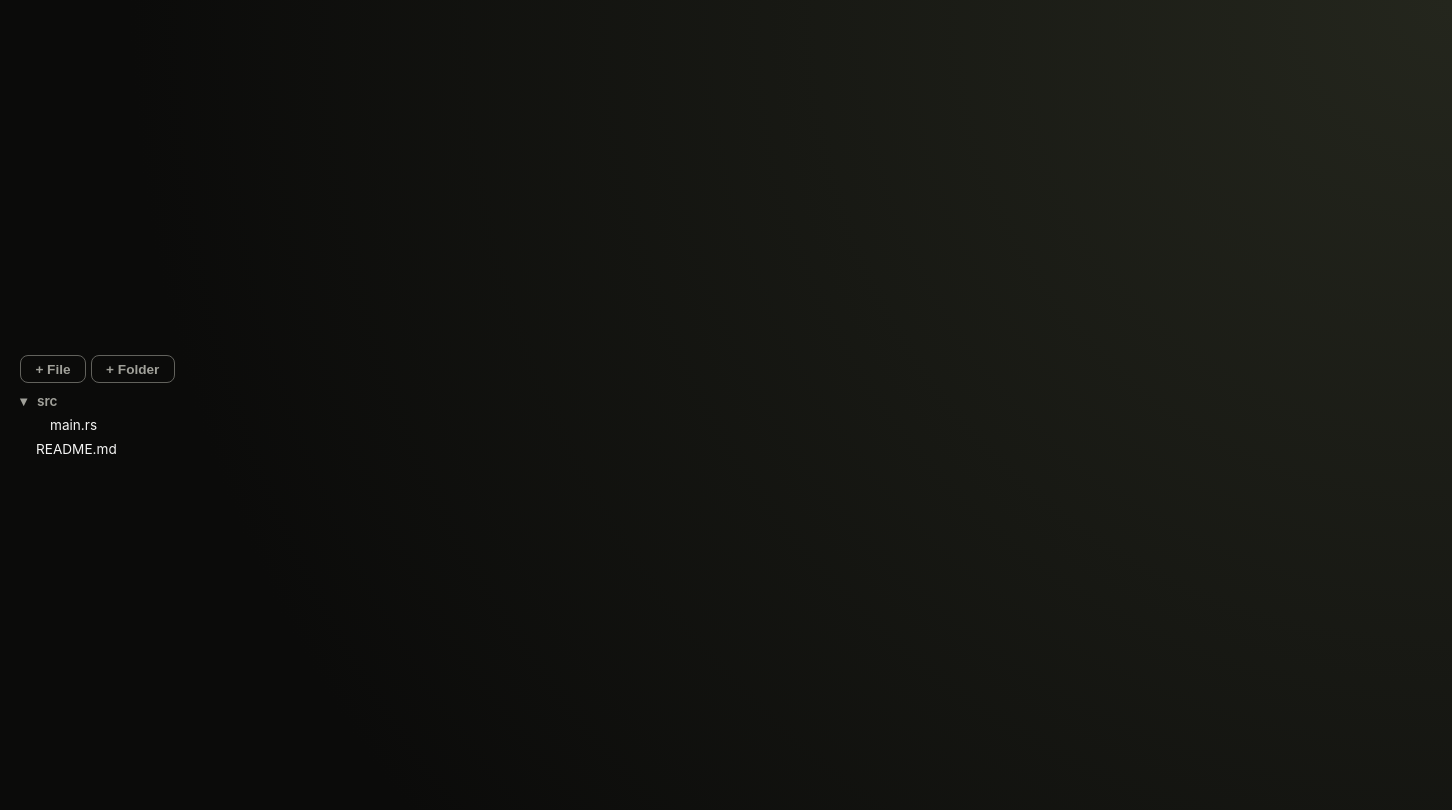
Test: FileExplorer › surfaces backend rejections as visible errors
The image size is (1452, 810).
Click the button "+ File".
click(53, 369)  # box [20,355,86,383]
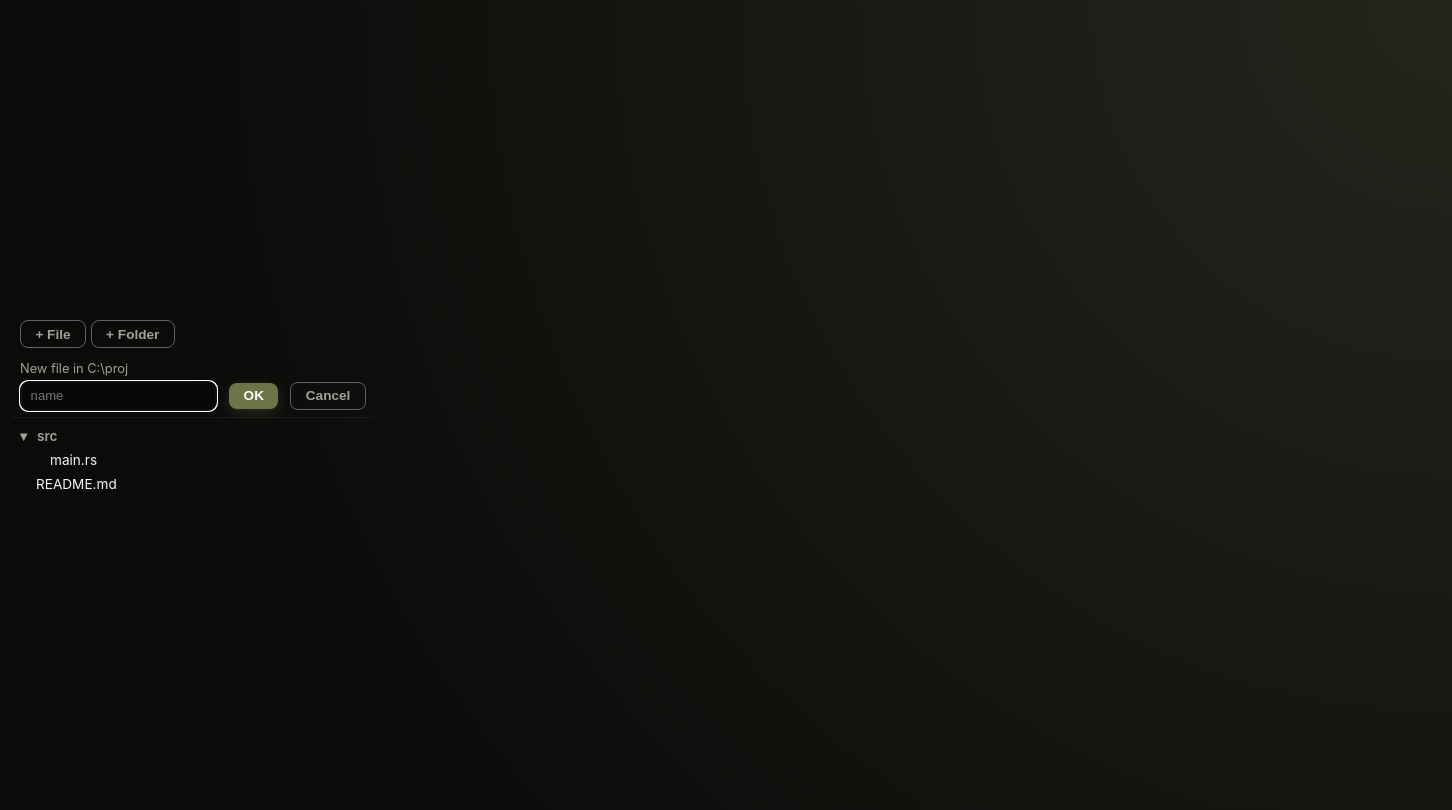
Type "x.ts" into the field with placeholder "name".
click(119, 396); type("x.ts")  # box [20,381,217,411]
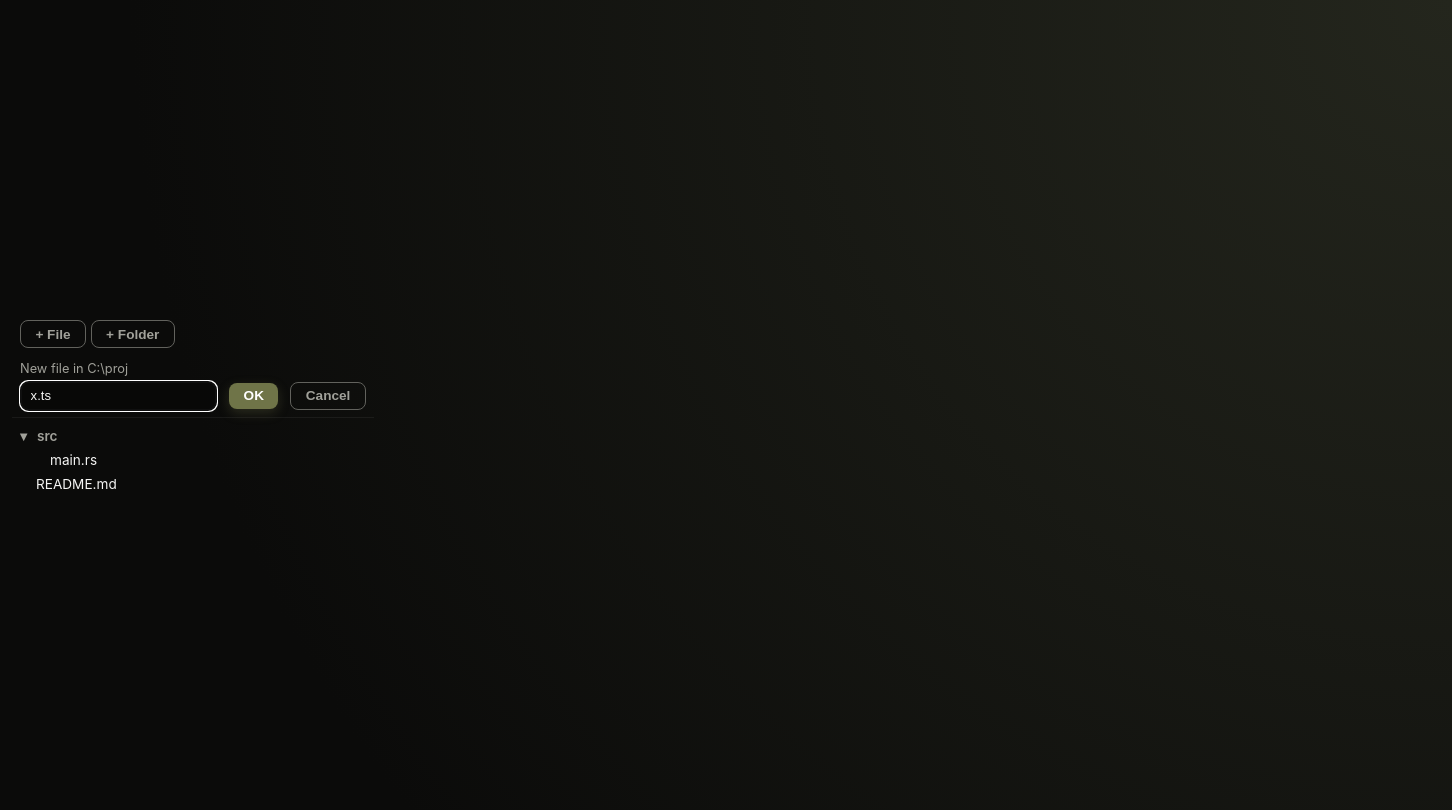
Click the button "OK".
click(254, 396)  # box [229,383,278,409]
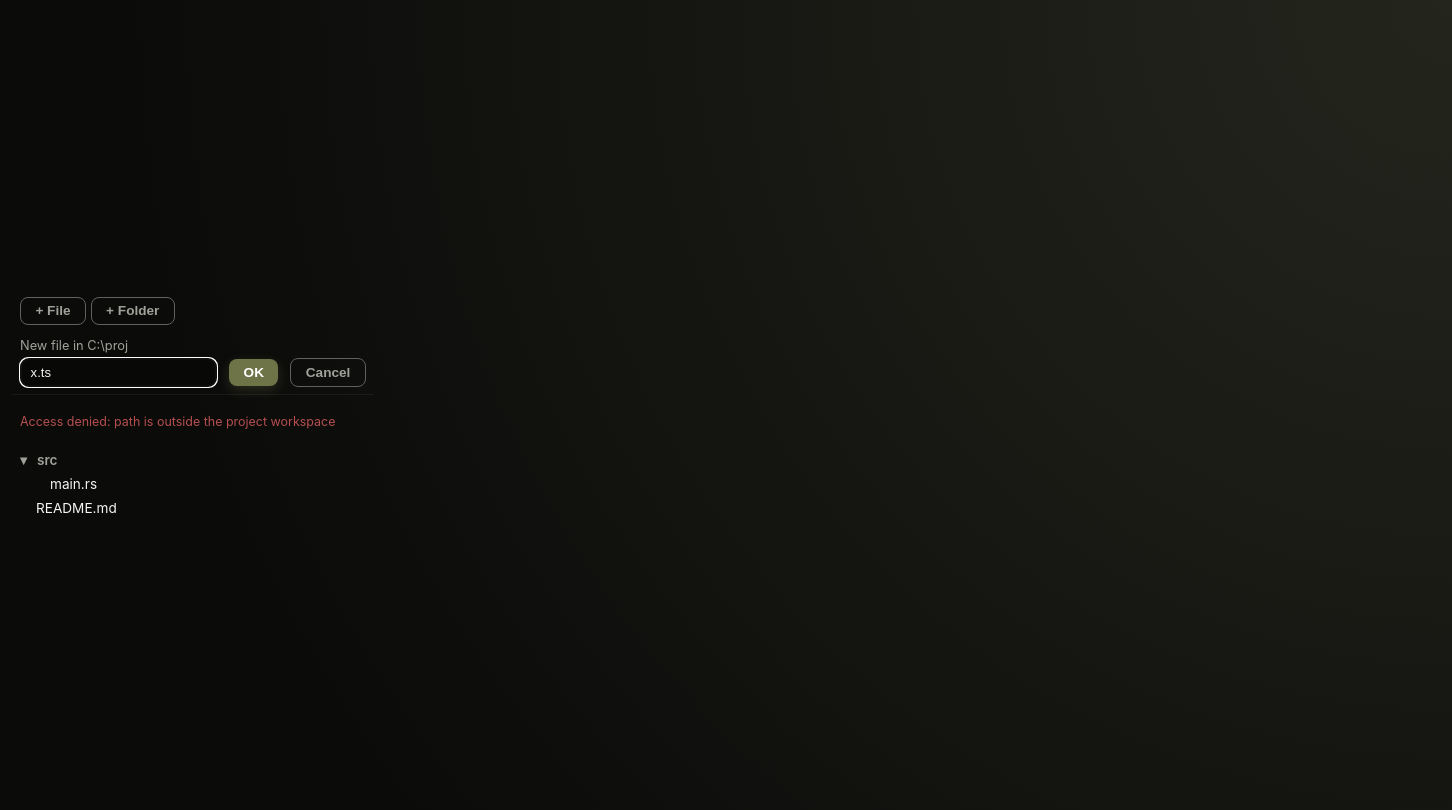
Now the text "Access denied: path is outside the project workspace" is shown, box [12,414,374,429]
